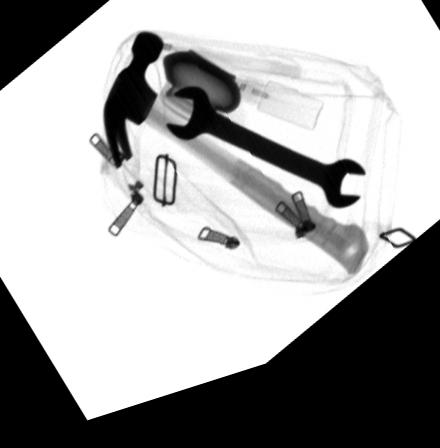Hammer: (102, 39, 370, 296)
Wrench: (165, 97, 365, 230)
